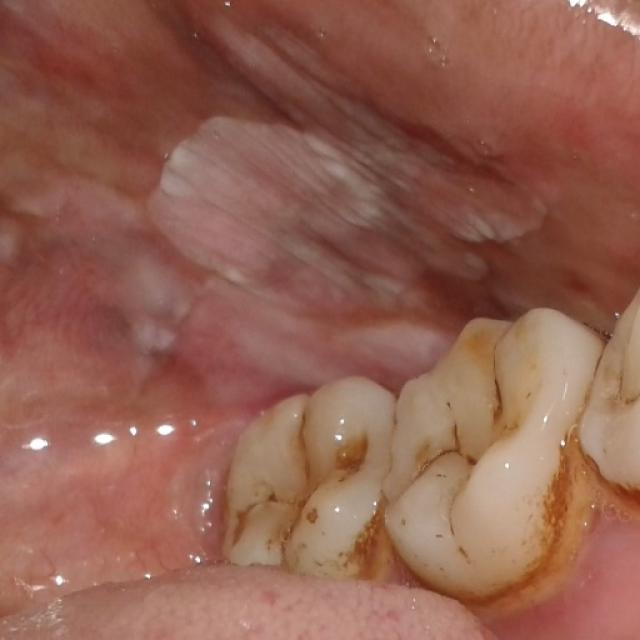leukoplakia-detection: (121, 13, 581, 371)
processing_area: (1, 0, 639, 639)
